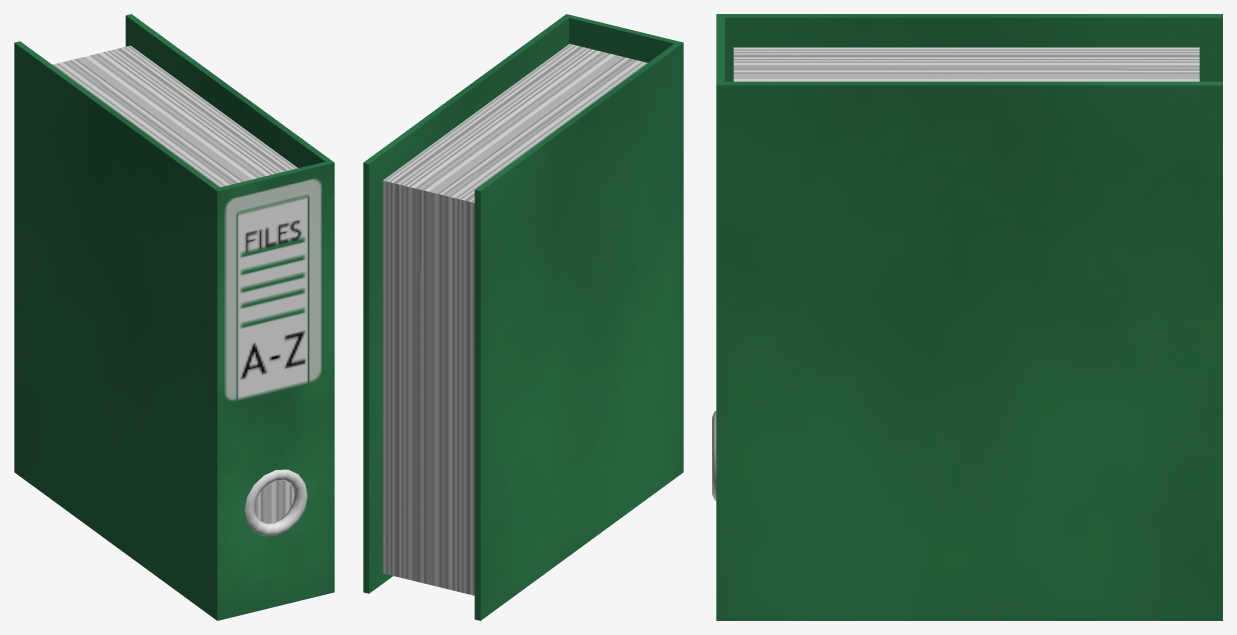
File: 3D004_Office_BookGreen.FBX
3 renders of one model, left to right at view 1: azimuth 30°, elevation 25°; view 2: azimuth 150°, elevation 25°; view 3: azimuth 270°, elevation 25°, orthographic. The views are drawn at different scales.
Parts seen in each view (by area): view 1: 3D004_Office_BookGreen; view 2: 3D004_Office_BookGreen; view 3: 3D004_Office_BookGreen.
Boxes of the visible parts, x1=… form: 3D004_Office_BookGreen: x1=14, y1=14, x2=334, y2=620; 3D004_Office_BookGreen: x1=363, y1=14, x2=683, y2=620; 3D004_Office_BookGreen: x1=712, y1=14, x2=1222, y2=620.
Bounding box in the file's own units: 10 × 35 × 30.26.
